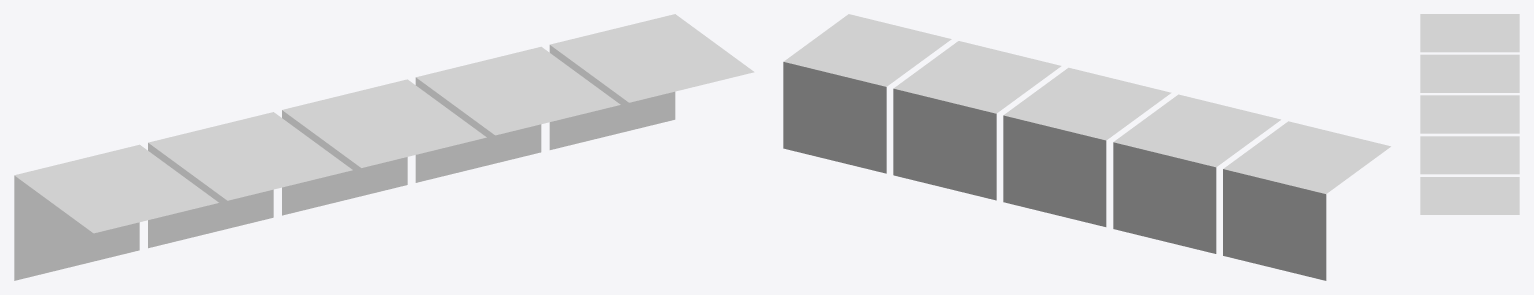
File: Quarters_Walls_02.fbx
The picture shows the model from 3 angles, left to right: view 1: azimuth 30°, elevation 25°; view 2: azimuth 150°, elevation 25°; view 3: azimuth 270°, elevation 25°; orthographic projection. The views are drawn at different scales.
Parts seen in each view (by area): view 1: Quarters_Walls_02; view 2: Quarters_Walls_02; view 3: Quarters_Walls_02.
Part boxes in pixels (bbox=[...]): Quarters_Walls_02: bbox=[14, 14, 754, 280]; Quarters_Walls_02: bbox=[783, 14, 1390, 280]; Quarters_Walls_02: bbox=[1420, 14, 1519, 214].
Bounding box in the file's own units: 72 × 11 × 15.
